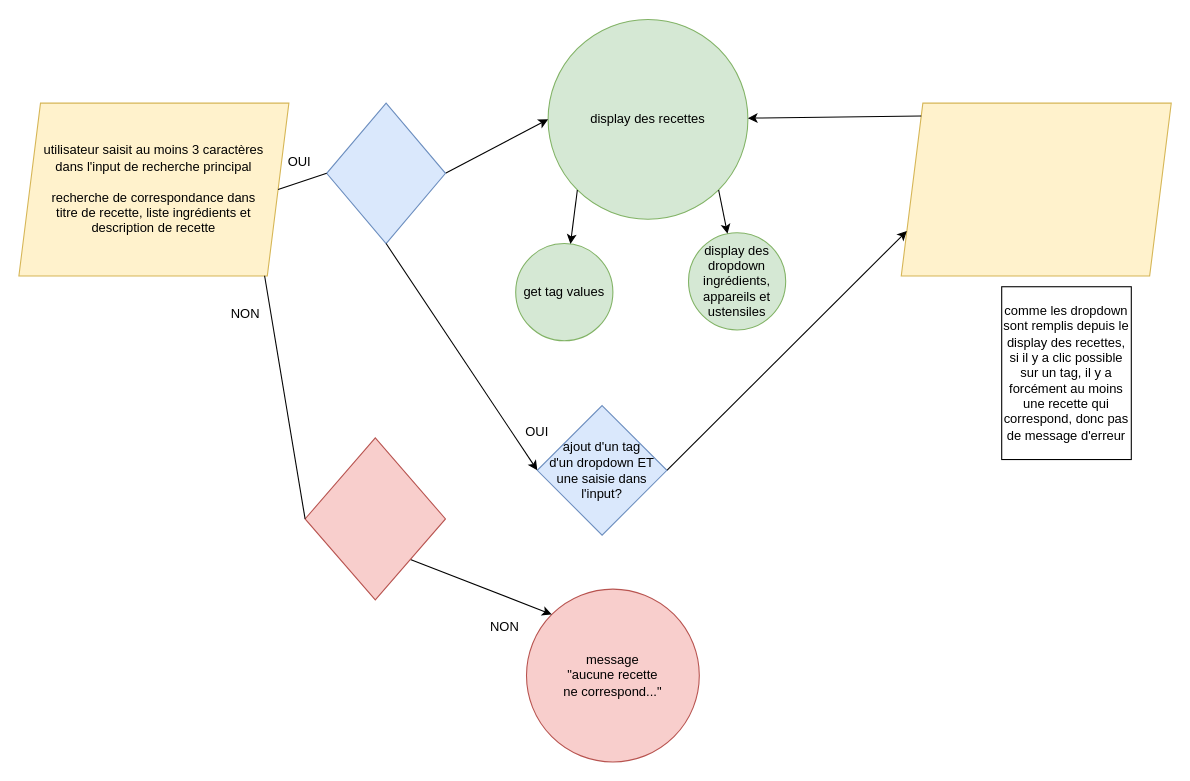
Some shapes in this 1190 by 781 pixel diagram are drawn without their labels. The centre of each missing label's shape, as x and y in pixels:
"au moins 1 résultat correspond à la recherche" goes at (386,173).
"aucun résultat ne correspond à la recherche" goes at (375,518).
"utilisateur clic sur un tag (ingrédient, appareil, ustensile)" goes at (1035,189).
